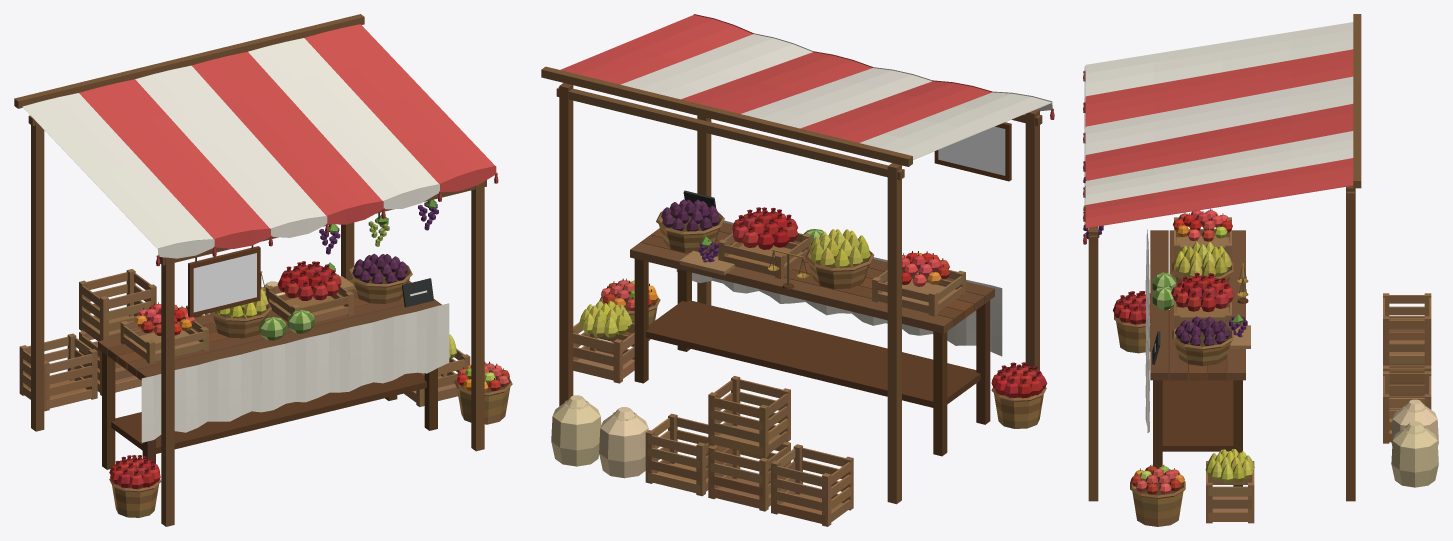
Rendered from stall_fruit.glb.
3 renders of one model, left to right at view 1: azimuth 30°, elevation 25°; view 2: azimuth 150°, elevation 25°; view 3: azimuth 270°, elevation 25°, orthographic. The views are drawn at different scales.
Parts seen in each view (by area): view 1: House; view 2: House; view 3: House.
Boxes of the visible parts, x1,y1,x2,y2 form: House: [14, 14, 512, 526]; House: [541, 14, 1054, 526]; House: [1083, 14, 1438, 526].
Bounding box in the file's own units: 2.88 × 2.25 × 2.21.
Materials: 4 (4 with a texture image).
